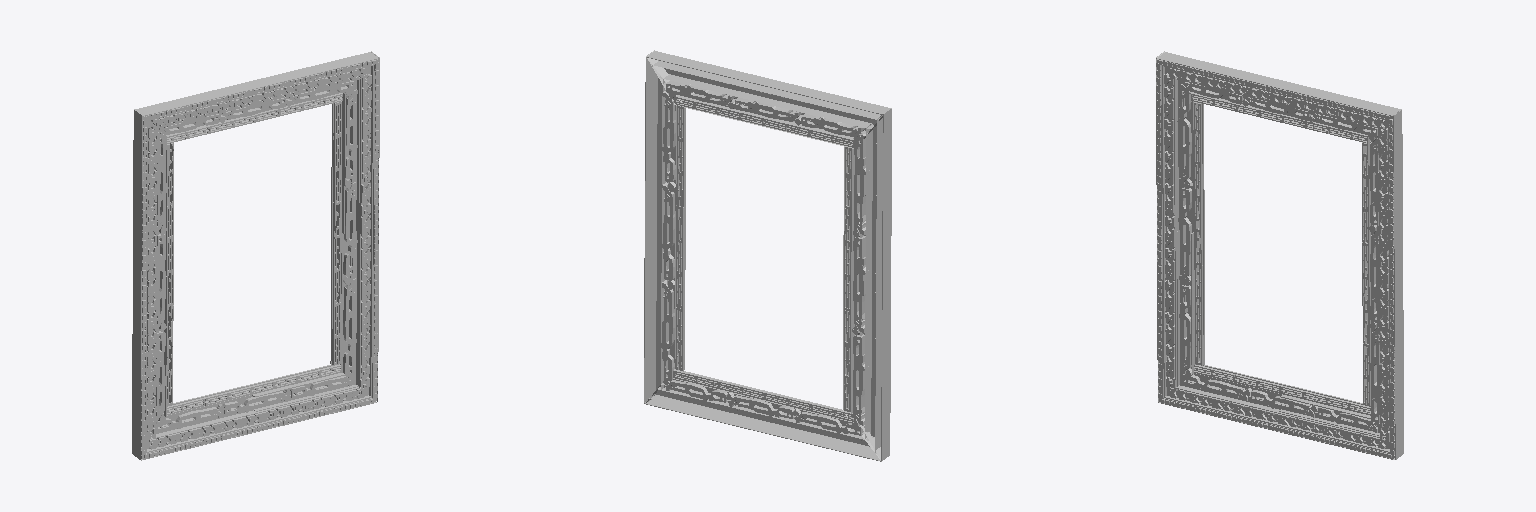
File: Cuadro3.obj
The picture shows the model from 3 angles: view 1: azimuth 30°, elevation 25°; view 2: azimuth 150°, elevation 25°; view 3: azimuth 330°, elevation 25°; orthographic projection.
Parts seen in each view (by area): view 1: off; view 2: off; view 3: off.
Part boxes in pixels (left/top/right/bottom): off: left=132, top=51, right=379, bottom=460; off: left=644, top=50, right=891, bottom=461; off: left=1156, top=51, right=1403, bottom=459.
Size of the model in its own units: 114 by 159 by 9.45.